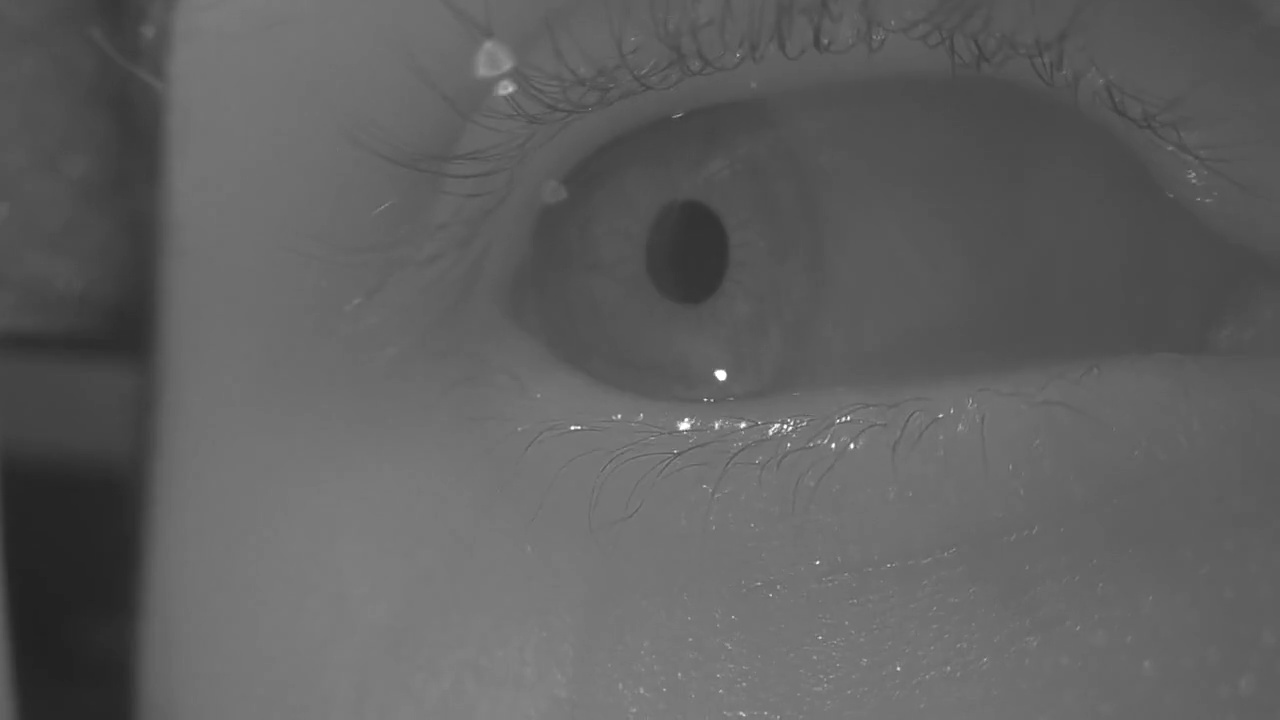pupil: (646, 200, 729, 306)
